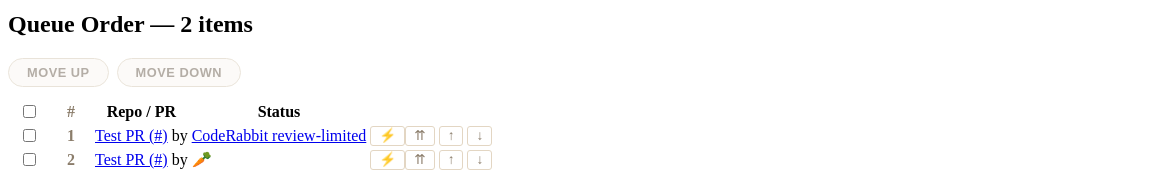
Test: QueueOrder › retrigger now › shows success toast with interval on success
The width and height of the screenshot is (1152, 187).
Click the button named "Retrigger now".
click(388, 136)  # box [370,126,405,146]
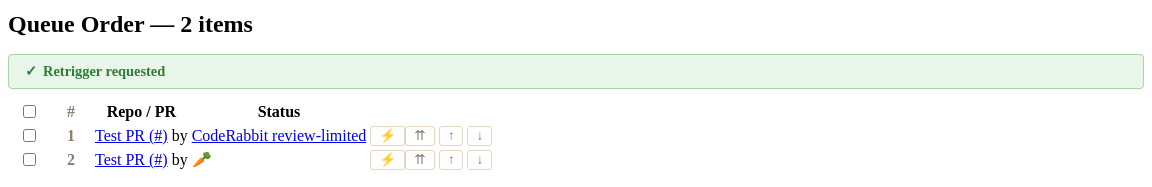
Expected: the text "Retrigger requested" is shown, [8,54,1144,89]
